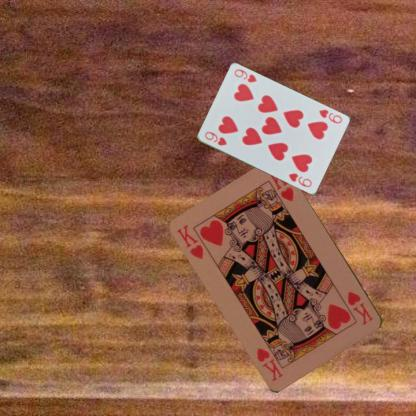9h: (316, 107, 343, 125), (202, 129, 228, 147)
Kh: (175, 222, 205, 262), (345, 288, 375, 326)
